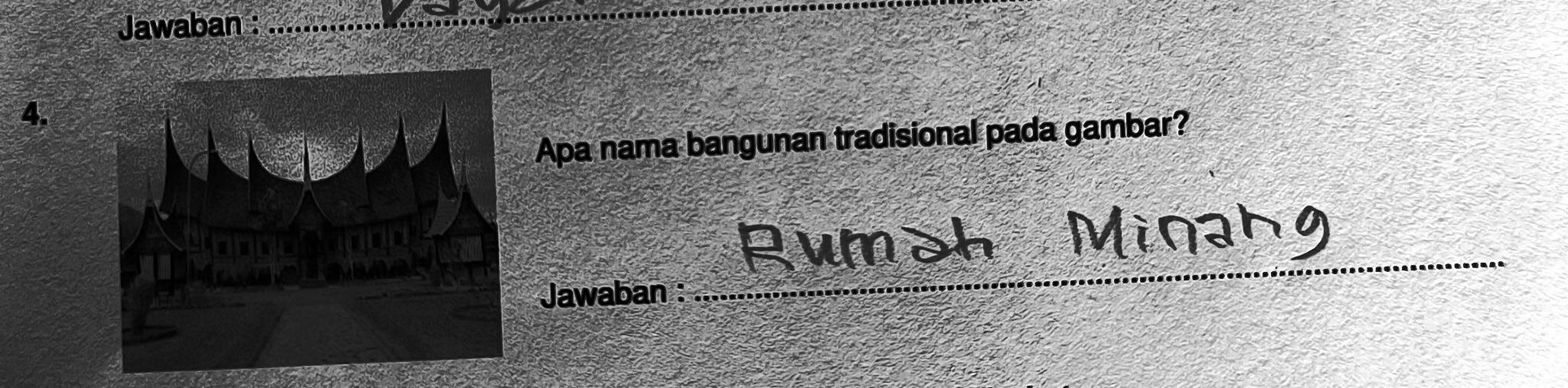jawaban: (733, 213, 994, 273), (1065, 202, 1333, 259)
